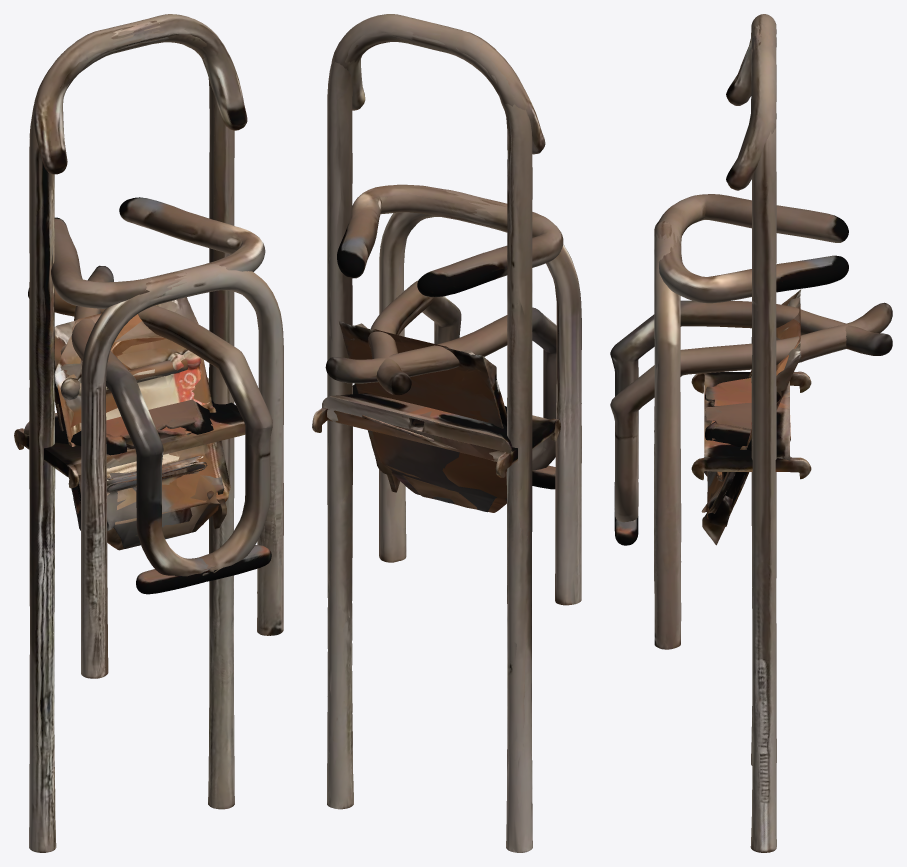
The model's file is NMK.2016.0135.001_142188.glb.
The picture shows the model from 3 angles, left to right: view 1: azimuth 30°, elevation 25°; view 2: azimuth 150°, elevation 25°; view 3: azimuth 270°, elevation 25°; orthographic projection. The views are drawn at different scales.
Parts seen in each view (by area): view 1: root.3, root.2, root.5, root.4, root.9, root.1, root.0, root.7, root.8, root.6; view 2: root.3, root.2, root.5, root.4, root.1, root.0, root.7, root.9, root.8, root.6; view 3: root.2, root.4, root.9, root.7, root.5, root.3, root.8, root.6, root.1, root.0.
Part boxes in pixels (x1,y1,x2,y2): root.3: (29,14,247,852); root.2: (33,20,234,809); root.5: (81,197,265,678); root.4: (51,217,283,635); root.9: (28,288,272,594); root.1: (54,297,226,550); root.0: (54,305,230,548); root.7: (71,265,271,581); root.8: (14,377,215,488); root.6: (24,402,245,468); root.3: (331,14,532,852); root.2: (327,17,545,809); root.5: (337,184,581,605); root.4: (379,189,563,562); root.1: (339,321,506,512); root.0: (349,329,506,512); root.7: (325,307,556,470); root.9: (368,280,555,489); root.8: (322,393,560,477); root.6: (312,383,512,461); root.2: (726,14,776,852); root.4: (654,194,848,649); root.9: (610,302,892,522); root.7: (610,300,892,545); root.5: (654,221,848,561); root.3: (726,25,776,765); root.8: (691,371,811,460); root.6: (691,377,811,480); root.1: (701,306,801,545); root.0: (704,289,801,518).
Bounding box in the file's own units: 6361 × 24121 × 8002.
1 material, 1 textured.
